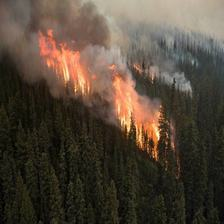fire: (41, 18, 176, 166)
